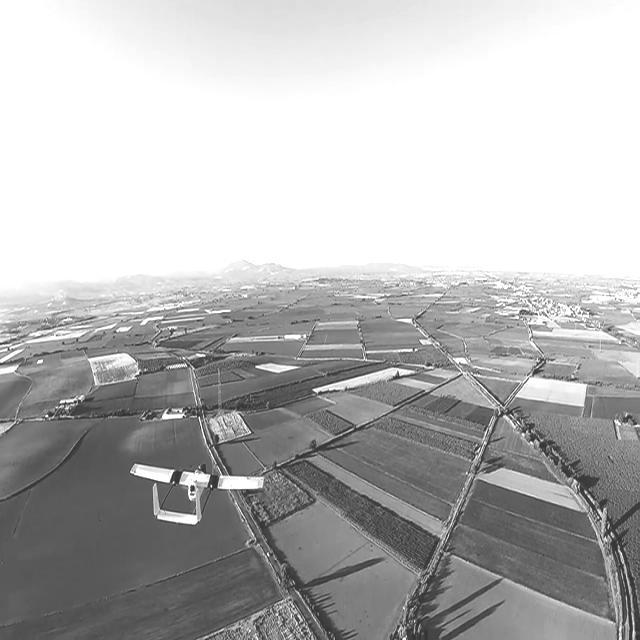iha: (127, 490, 268, 495)
